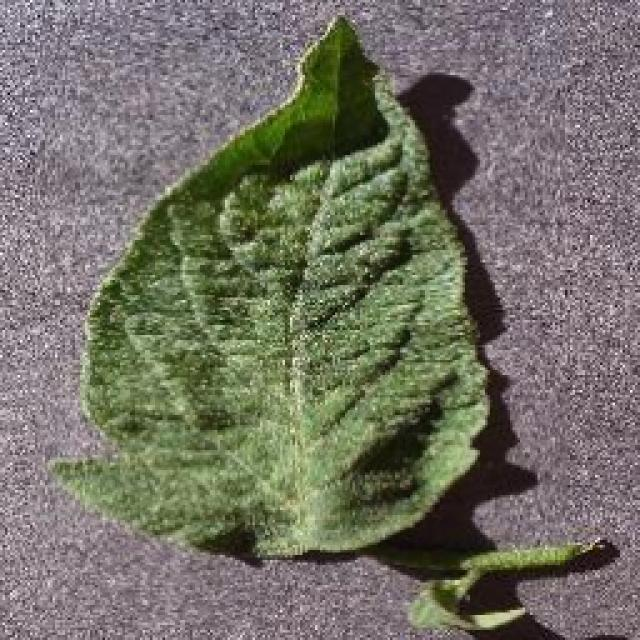Healthy: (35, 2, 567, 630)
